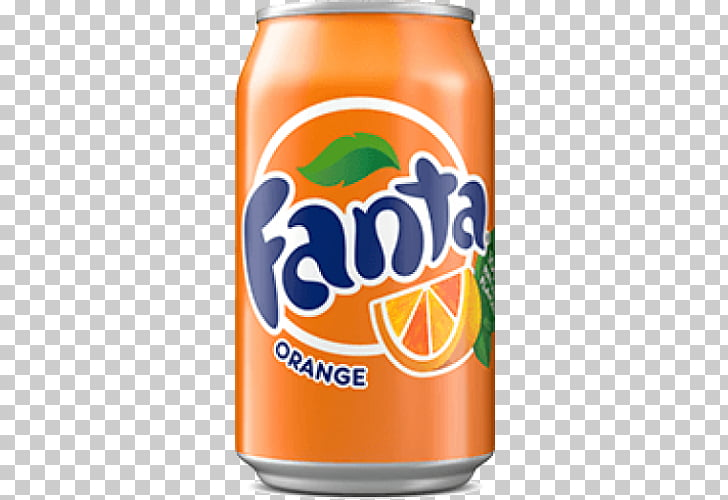Fanta: (218, 2, 492, 500)
